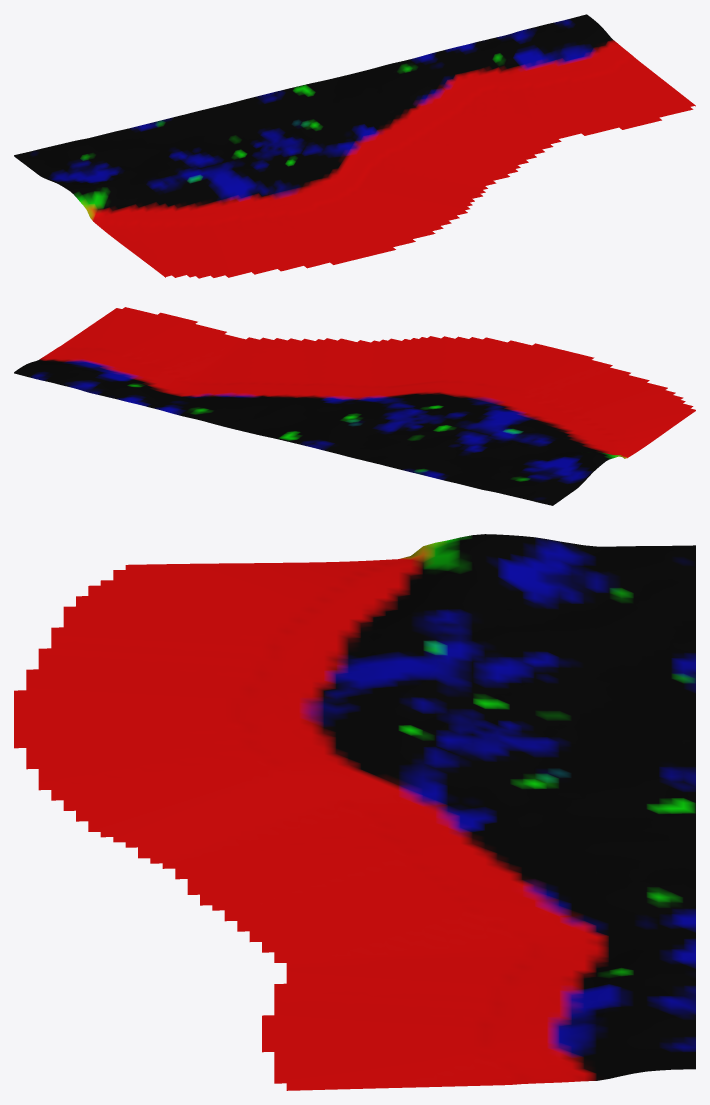
Rendered from coast_800_-800_800.glb.
The picture shows the model from 3 angles, top to bottom: view 1: azimuth 30°, elevation 25°; view 2: azimuth 150°, elevation 25°; view 3: azimuth 270°, elevation 25°; orthographic projection. The views are drawn at different scales.
Parts seen in each view (by area): view 1: terrain; view 2: terrain; view 3: terrain.
Boxes of the visible parts, x1,y1,x2,y2 form: terrain: (14, 14, 695, 278); terrain: (14, 307, 695, 505); terrain: (14, 534, 695, 1090).
Size of the model in its own units: 800 by 24.17 by 440.
